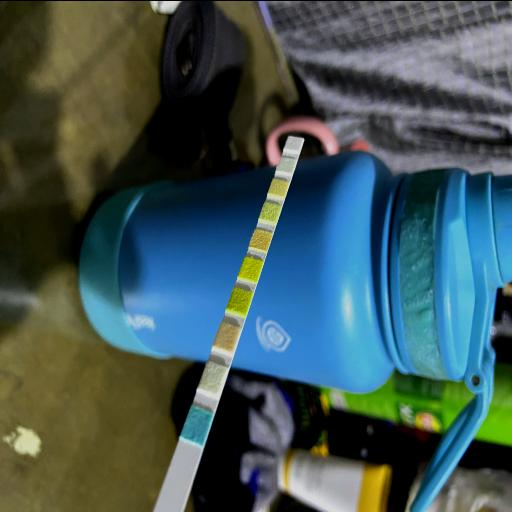Bilirubin: (204, 364, 222, 386)
Blood: (243, 259, 258, 275)
Glucose: (188, 411, 206, 435)
Ketone: (220, 326, 236, 345)
Leukocytes: (288, 137, 300, 147)
Nitrite: (280, 159, 294, 169)
Protein: (264, 203, 278, 217)
SpGravity: (232, 292, 248, 308)
Urobilinogen: (272, 180, 286, 192)
pH: (254, 231, 269, 245)
strip: (151, 134, 304, 512)
